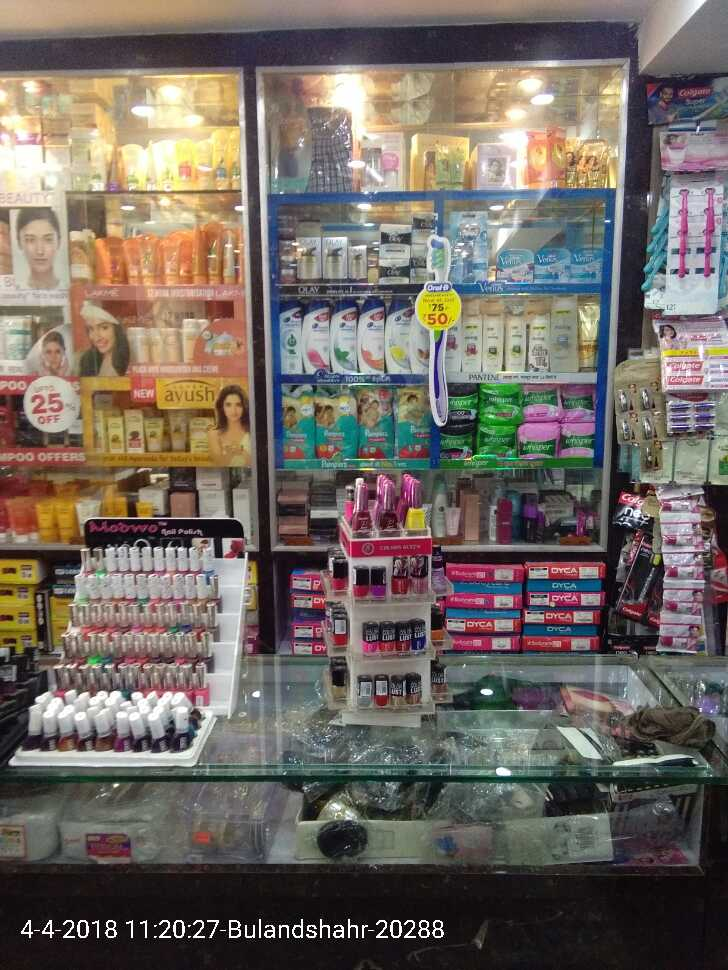venus: (450, 211, 488, 280), (496, 248, 534, 280), (535, 248, 571, 281), (572, 247, 605, 281)
